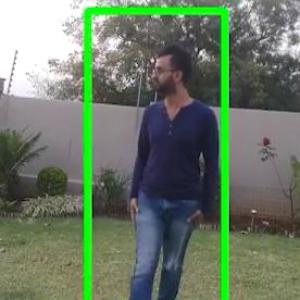follow: (108, 16, 229, 299)
